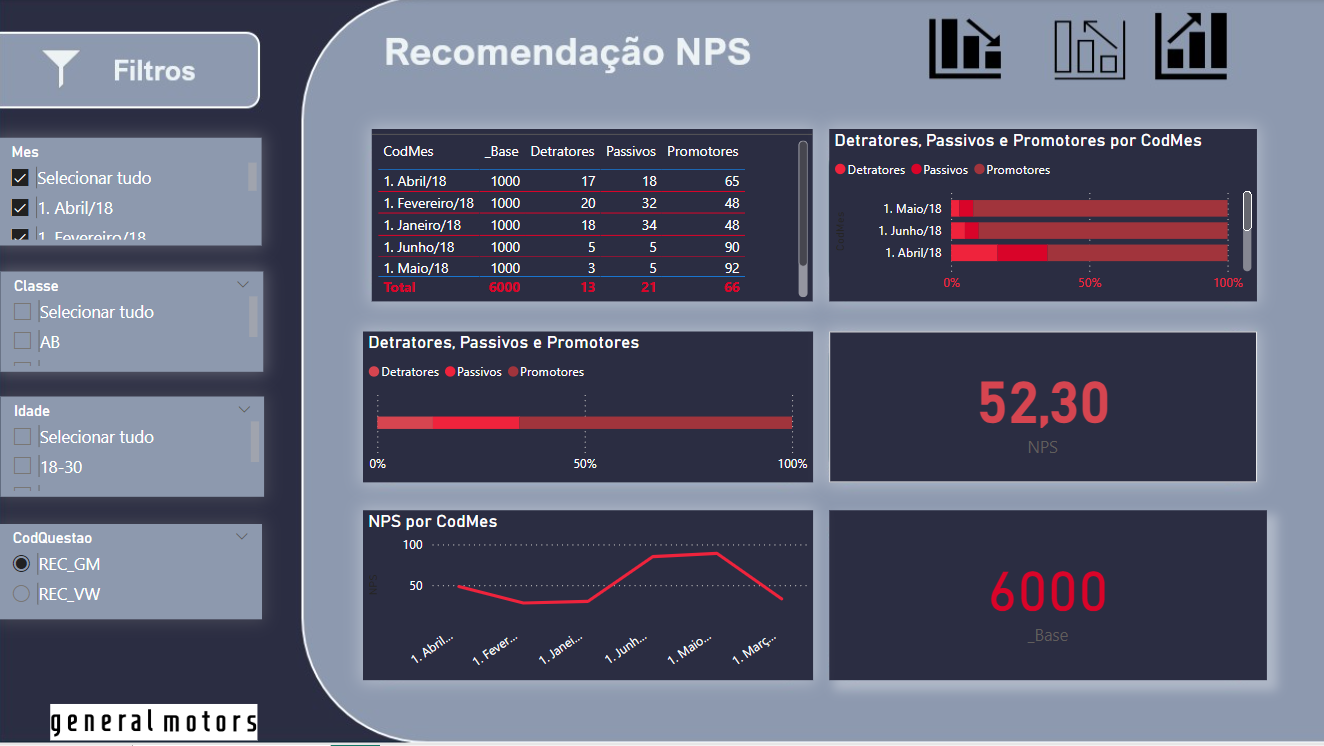

This screenshot's page, from the dashboard's own definition file:
{"tool":"powerbi","page":{"name":"Documentaçao e NPS","canvas":[1280,720],"ordinal":0},"visuals":[{"type":"slicer","fields":{"Values":["tbRespondente.CodMes"]},"box":[0,133.9,254.6,103.8],"z":0},{"type":"slicer","fields":{"Values":["tbRespondente.Classe"]},"box":[2.4,263,253.4,96.5],"z":1000},{"type":"slicer","fields":{"Values":["tbRespondente.Idade"]},"box":[2.4,383.6,254.6,96.5],"z":2000},{"type":"slicer","fields":{"Values":["tbResposta.CodQuestao"]},"box":[1.2,506.7,253.4,91.7],"z":3000},{"type":"tableEx","fields":{"Values":["tbRespondente.CodMes","_MEDIDAS._Base","_MEDIDAS.Detratores","_MEDIDAS.Passivos","_MEDIDAS.Promotores"]},"box":[360.7,125.5,425.9,166.5],"z":4000},{"type":"hundredPercentStackedBarChart","fields":{"Category":["tbRespondente.CodMes"],"Y":["_MEDIDAS.Detratores","_MEDIDAS.Passivos","_MEDIDAS.Promotores"]},"box":[802.3,125.5,412.6,166.5],"z":5000},{"type":"hundredPercentStackedBarChart","fields":{"Y":["_MEDIDAS.Detratores","_MEDIDAS.Passivos","_MEDIDAS.Promotores"]},"box":[352.3,320.9,434.3,146],"z":6000},{"type":"card","fields":{"Values":["_MEDIDAS.NPS"]},"box":[802.3,320.9,412.6,146],"z":7000},{"type":"card","fields":{"Values":["_MEDIDAS._Base"]},"box":[802.3,493.4,422.3,164.1],"z":8000},{"type":"lineChart","fields":{"Category":["tbRespondente.CodMes"],"Y":["_MEDIDAS.NPS"]},"box":[352.3,493.4,434.3,164.1],"z":9000},{"type":"image","box":[0,675.6,300.4,44.6],"z":10001}]}

Visuals, with their boxes in screenshot pixels (x1, y1, x2, y2):
slicer - tbRespondente.CodMes: pyautogui.locateOnScreen(7, 140, 267, 246)
slicer - tbRespondente.Classe: pyautogui.locateOnScreen(9, 272, 268, 370)
slicer - tbRespondente.Idade: pyautogui.locateOnScreen(9, 395, 269, 493)
slicer - tbResposta.CodQuestao: pyautogui.locateOnScreen(8, 520, 267, 614)
tableEx - tbRespondente.CodMes x _MEDIDAS._Base: pyautogui.locateOnScreen(375, 131, 809, 301)
hundredPercentStackedBarChart - tbRespondente.CodMes x _MEDIDAS.Detratores: pyautogui.locateOnScreen(825, 131, 1246, 301)
hundredPercentStackedBarChart - _MEDIDAS.Detratores x _MEDIDAS.Passivos: pyautogui.locateOnScreen(366, 331, 809, 480)
card - _MEDIDAS.NPS: pyautogui.locateOnScreen(825, 331, 1246, 480)
card - _MEDIDAS._Base: pyautogui.locateOnScreen(825, 507, 1256, 674)
lineChart - tbRespondente.CodMes x _MEDIDAS.NPS: pyautogui.locateOnScreen(366, 507, 809, 674)
image: pyautogui.locateOnScreen(7, 693, 313, 738)
